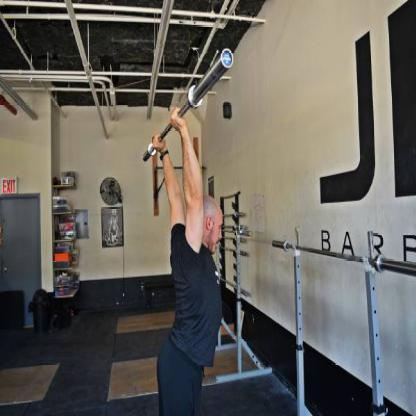Barbell: (221, 47, 237, 71)
